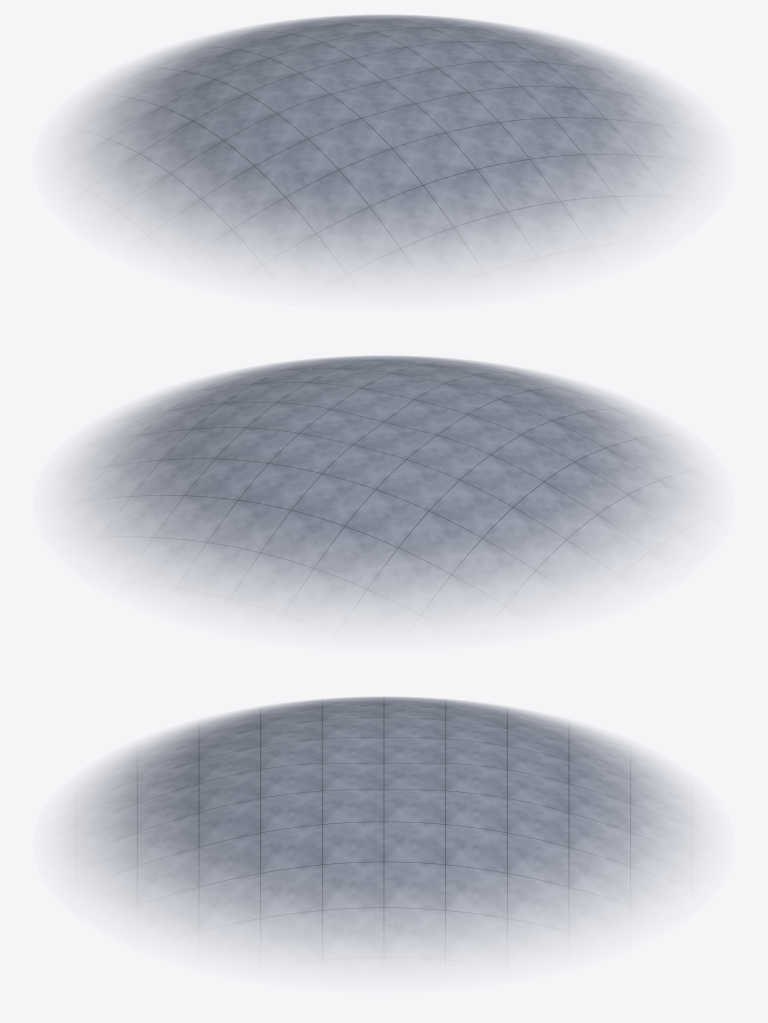
The model's file is piso_moderno_grafito.glb.
3 views of the same model, one above another, from view 1: azimuth 30°, elevation 25°; view 2: azimuth 150°, elevation 25°; view 3: azimuth 270°, elevation 25° (orthographic).
Visible parts, largest first — view 1: piso_curvo; view 2: piso_curvo; view 3: piso_curvo.
Part boxes in pixels (x1,y1,x2,y2): piso_curvo: (59,14,708,288); piso_curvo: (59,355,708,629); piso_curvo: (59,696,708,970).
Bounding box in the file's own units: 120 × 16 × 120.
1 material, 1 textured.
